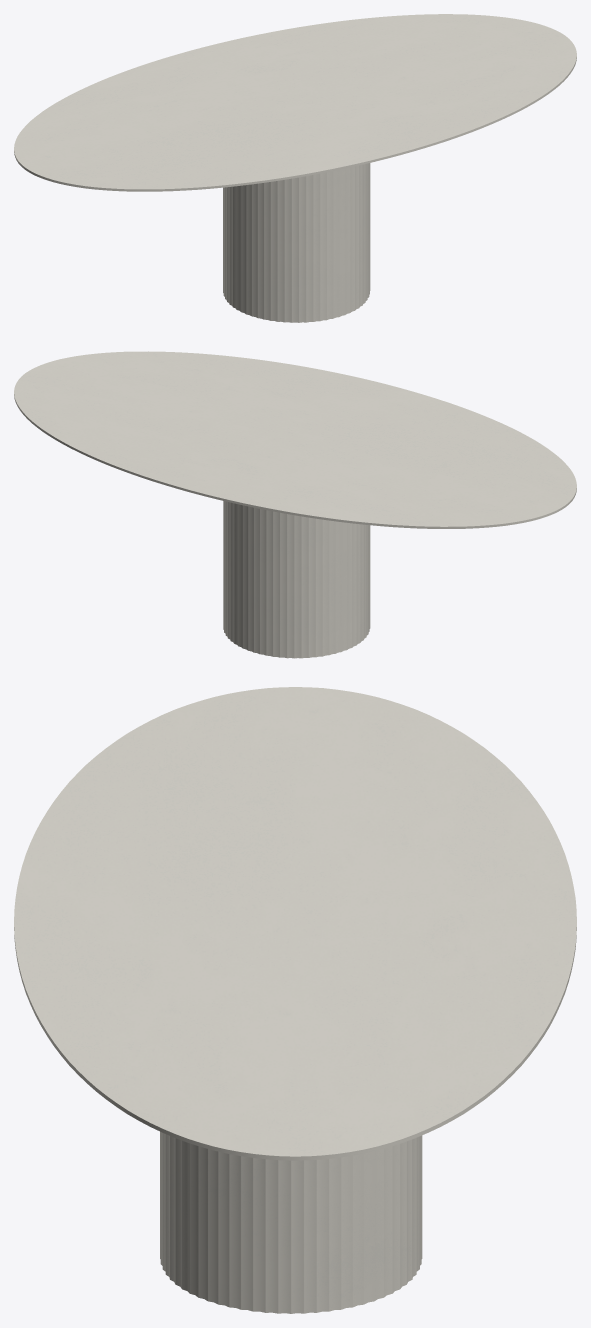
Rendered from pale_ellips_facet_ripple.glb.
3 renders of one model, top to bottom at view 1: azimuth 30°, elevation 25°; view 2: azimuth 150°, elevation 25°; view 3: azimuth 270°, elevation 25°, orthographic. The views are drawn at different scales.
Parts seen in each view (by area): view 1: facet_ellips, ripple; view 2: facet_ellips, ripple; view 3: facet_ellips, ripple.
Part boxes in pixels (box(x1,y1,x2,y2)): facet_ellips: box(14, 14, 576, 191); ripple: box(223, 163, 370, 322); facet_ellips: box(14, 351, 576, 528); ripple: box(223, 501, 370, 658); facet_ellips: box(14, 687, 576, 1160); ripple: box(160, 1131, 422, 1313).
Bounding box in the file's own units: 7.5 × 2.51 × 3.8.
1 material, 1 textured.
